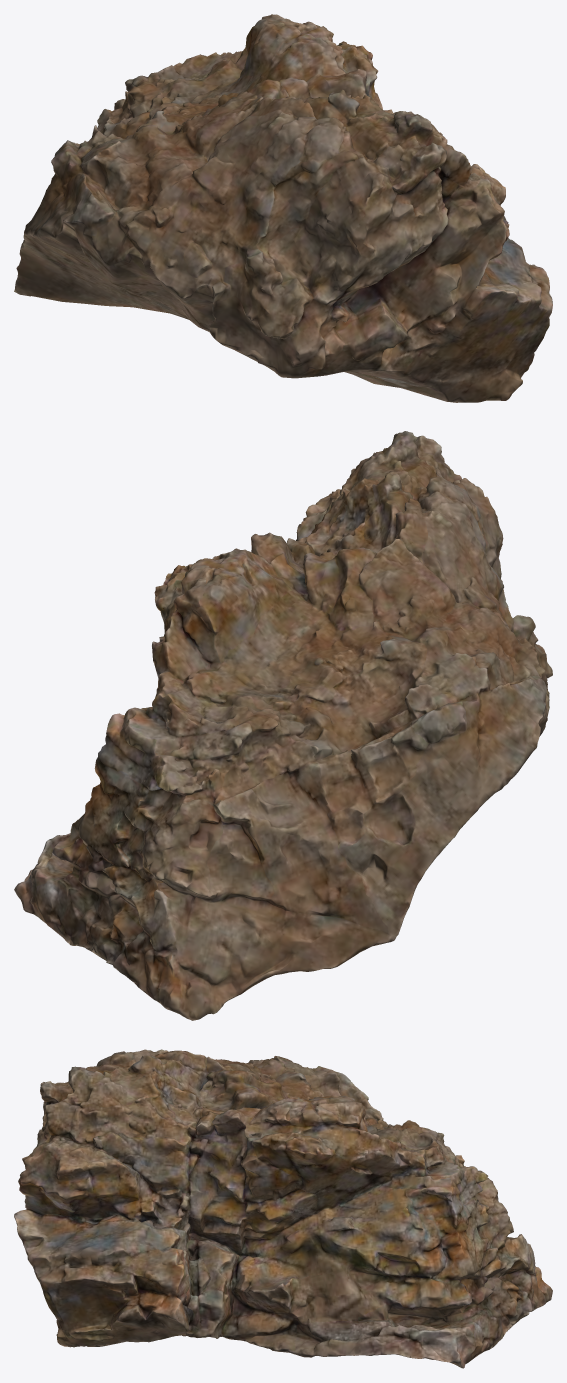
File: Rock.glb
3 renders of one model, top to bottom at view 1: azimuth 30°, elevation 25°; view 2: azimuth 150°, elevation 25°; view 3: azimuth 270°, elevation 25°, orthographic. The views are drawn at different scales.
Parts seen in each view (by area): view 1: boulder_01; view 2: boulder_01; view 3: boulder_01.
Boxes of the visible parts, <box> form: boulder_01: <box>14,14,552,402</box>; boulder_01: <box>14,431,552,1020</box>; boulder_01: <box>14,1049,552,1368</box>.
Size of the model in its own units: 1.27 by 1 by 1.83.
Materials: 1 (1 with a texture image).
